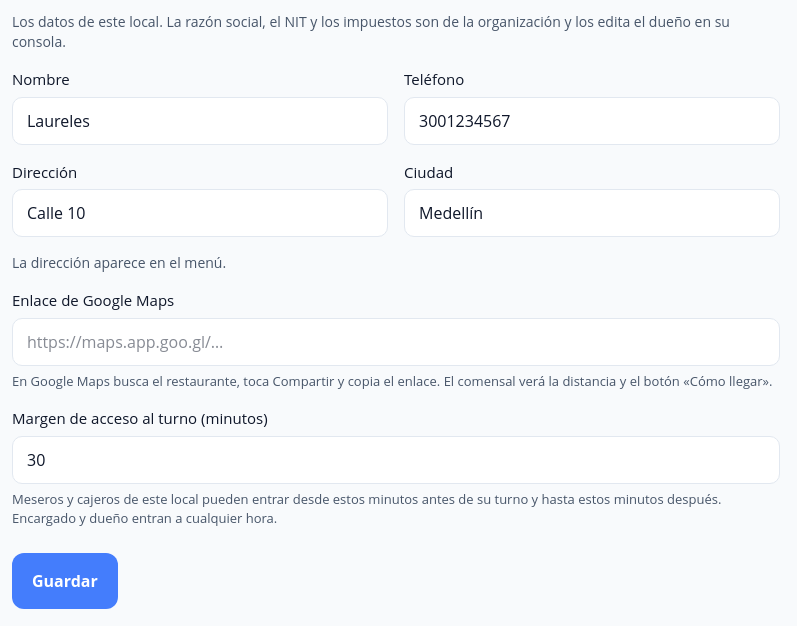
Test: guarda la ubicación del enlace de Maps como números
This screenshot has width=797, height=626.
Type "https://www.google.com/maps/place/Laureles/@6.21,-75.57,17z/data=!3d6.2088!4d-75.5675" into the field labelled "Enlace de Google Maps". click: (396, 342)
box: x1=12 y1=318 x2=780 y2=366
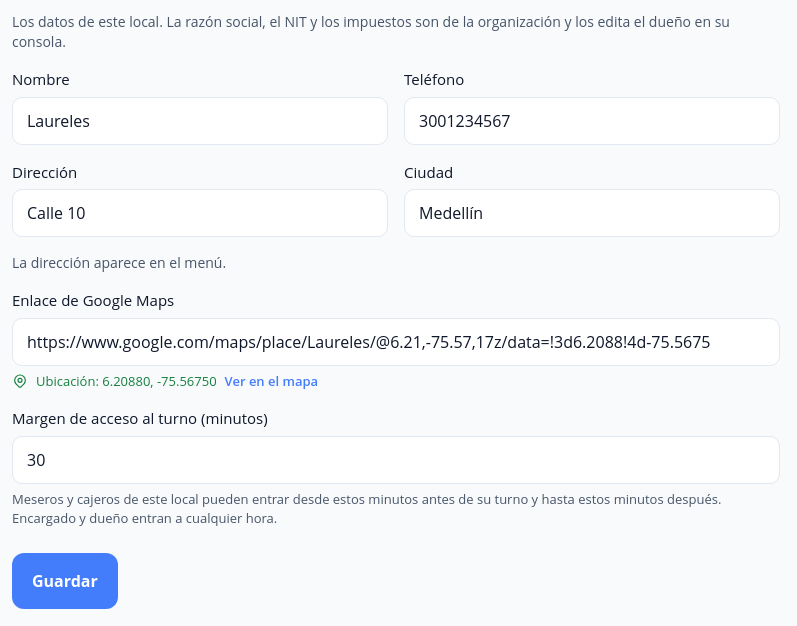
Click the button "Guardar". click: click(65, 580)
box: x1=12 y1=552 x2=118 y2=608
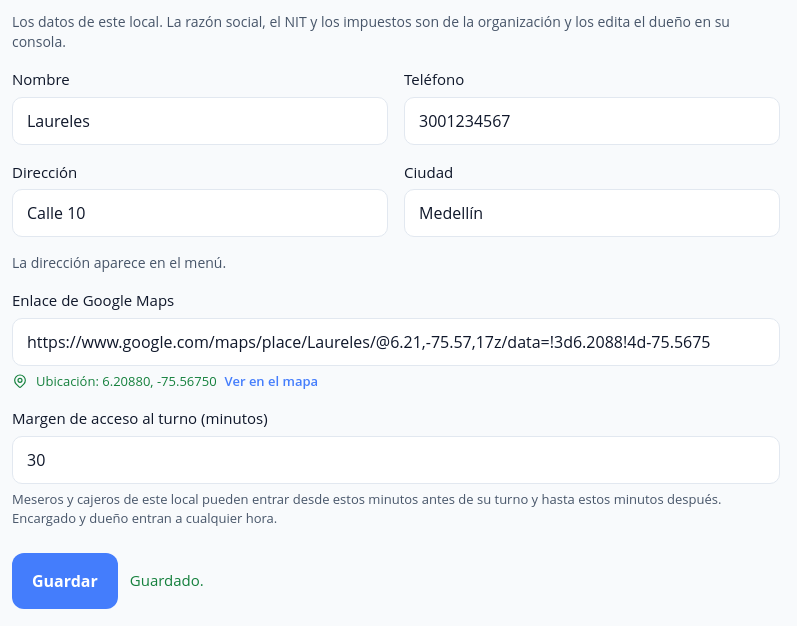
Result: the message reads "Guardado." at x1=130 y1=570 x2=204 y2=590
